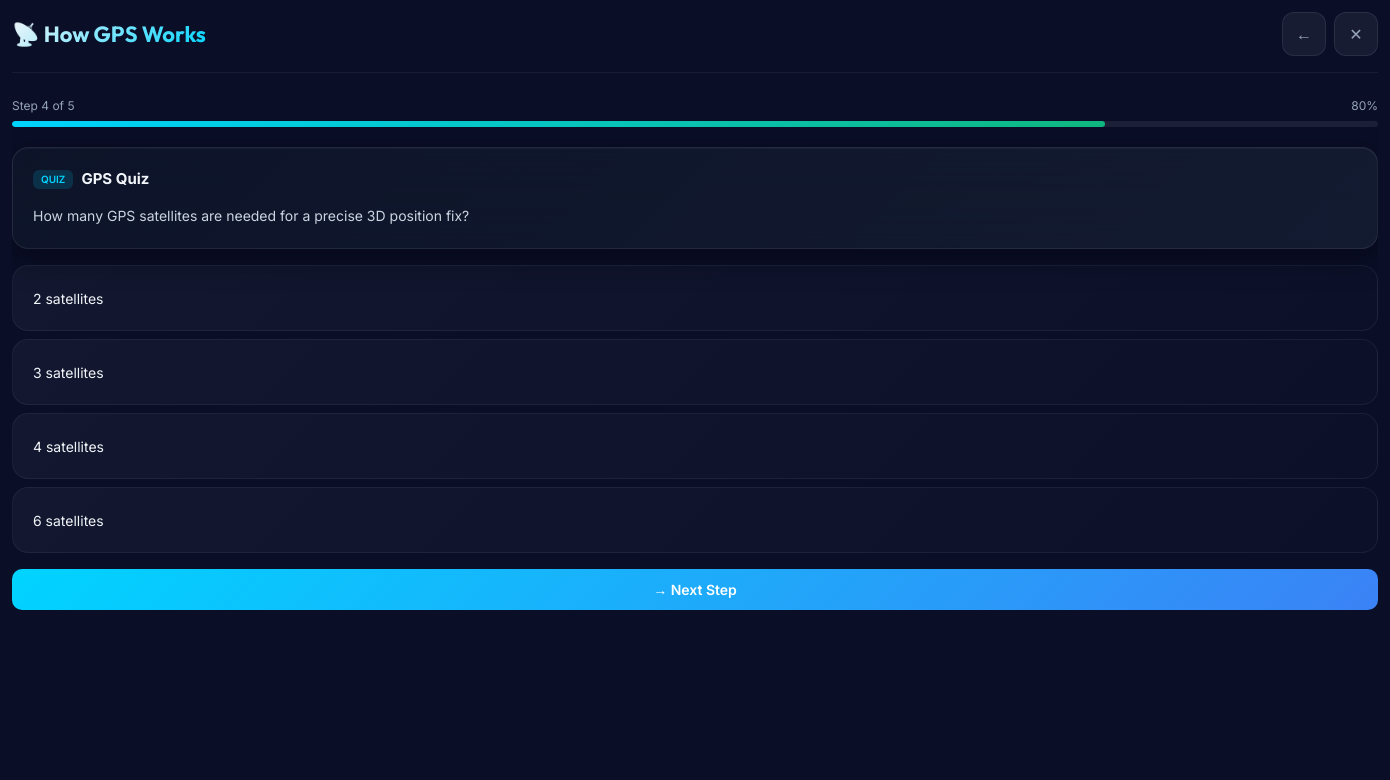
Test: MissionPanel › handles wrong quiz answer
Click the button "2 satellites" at (68, 298), box [12,265,1378,331]
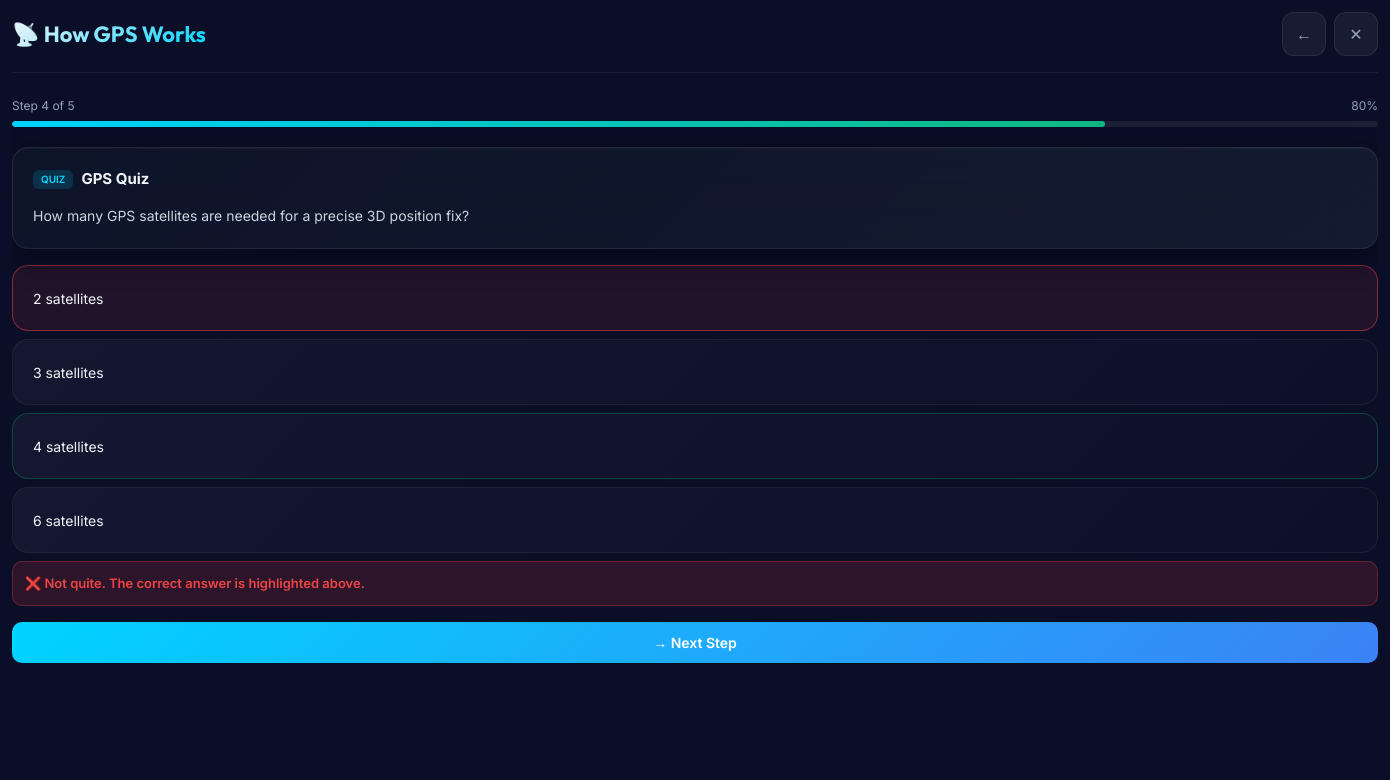
Expected: the text "❌ Not quite. The correct answer is highlighted above." is shown, [12,561,1378,606]
